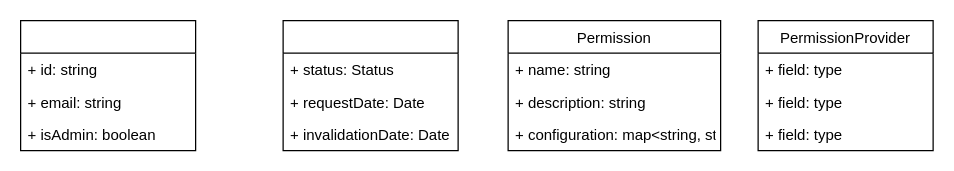
The diagram is 954 pixels wide and 171 high, and some of its shapes have lost their labels. The shapes that lost their labels are listed below. From the top down, each one's box as (x1, y1, x2, y2) in pixels, then its label:
(19, 19, 196, 151): User
(282, 19, 458, 151): PermissionRequest
